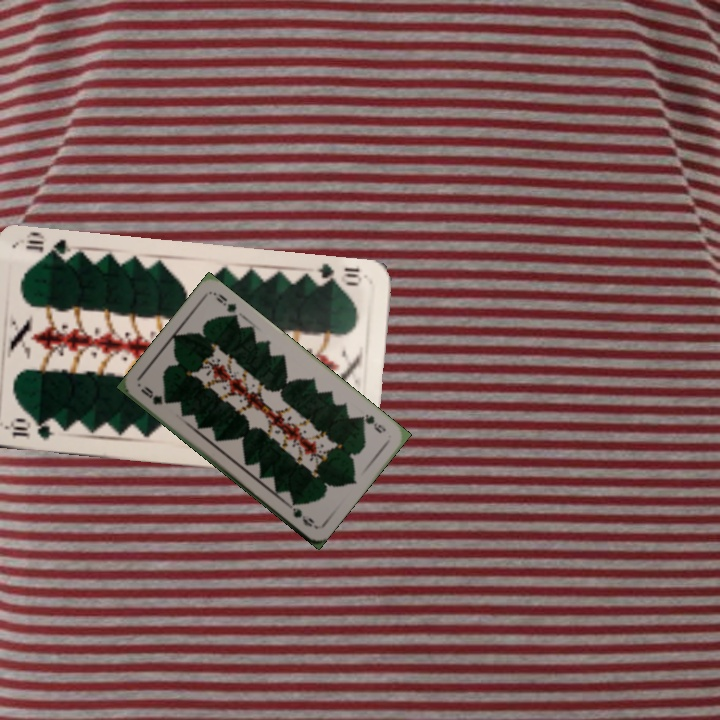G10: (314, 259, 365, 289), (3, 416, 58, 443)
G9: (137, 382, 172, 408), (354, 410, 389, 436)
